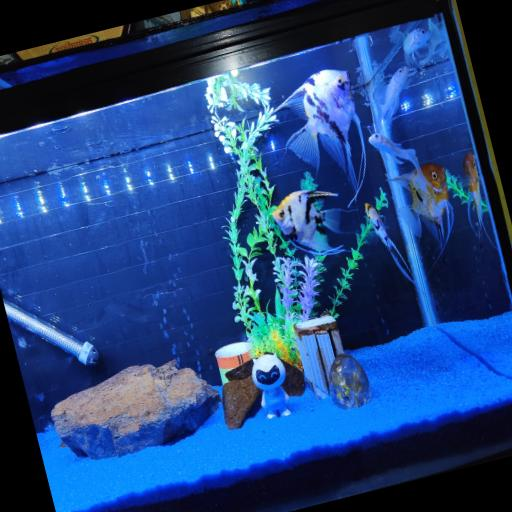Fish: (275, 70, 365, 205), (391, 164, 452, 263), (272, 191, 342, 252), (364, 203, 415, 285), (462, 153, 494, 248), (372, 66, 408, 130), (368, 133, 420, 171), (389, 26, 430, 68), (418, 19, 447, 66)
